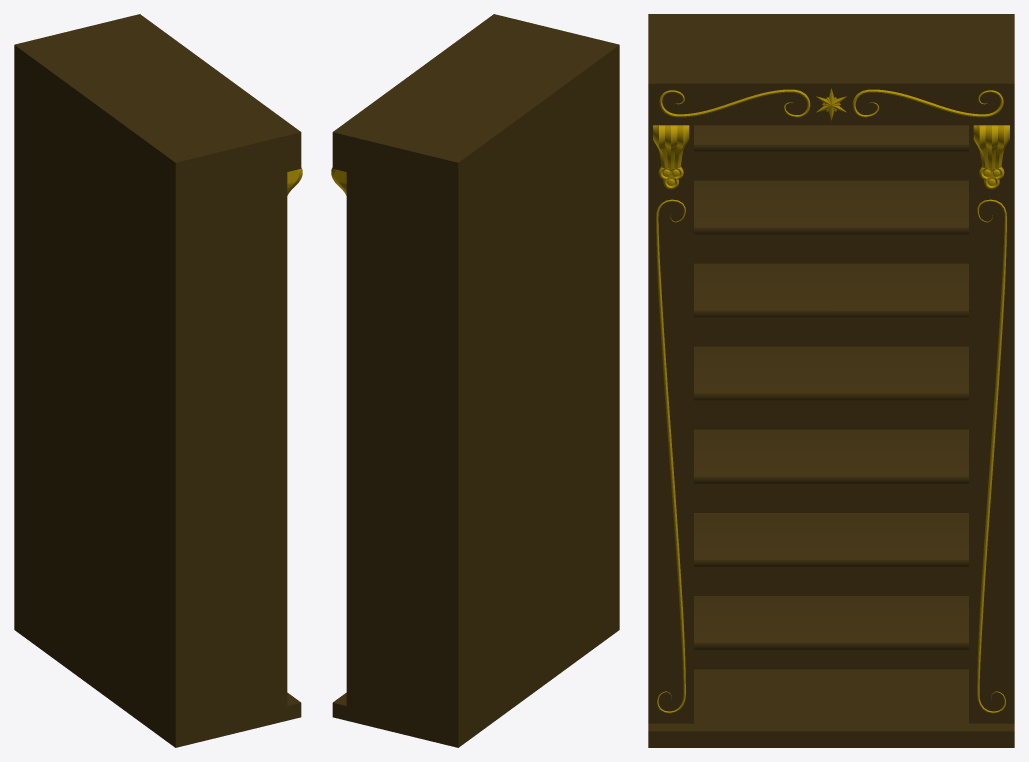
The model's file is BookshelfNarrow_LOD0.fbx.
3 renders of one model, left to right at view 1: azimuth 30°, elevation 25°; view 2: azimuth 150°, elevation 25°; view 3: azimuth 270°, elevation 25°, orthographic. The views are drawn at different scales.
Visible parts, largest first — view 1: Узор; view 2: Узор; view 3: Узор.
Part boxes in pixels (<box>): Узор: <box>14,14,302,747</box>; Узор: <box>331,14,619,747</box>; Узор: <box>648,14,1014,747</box>.
Bounding box in the file's own units: 189 × 800 × 400.
